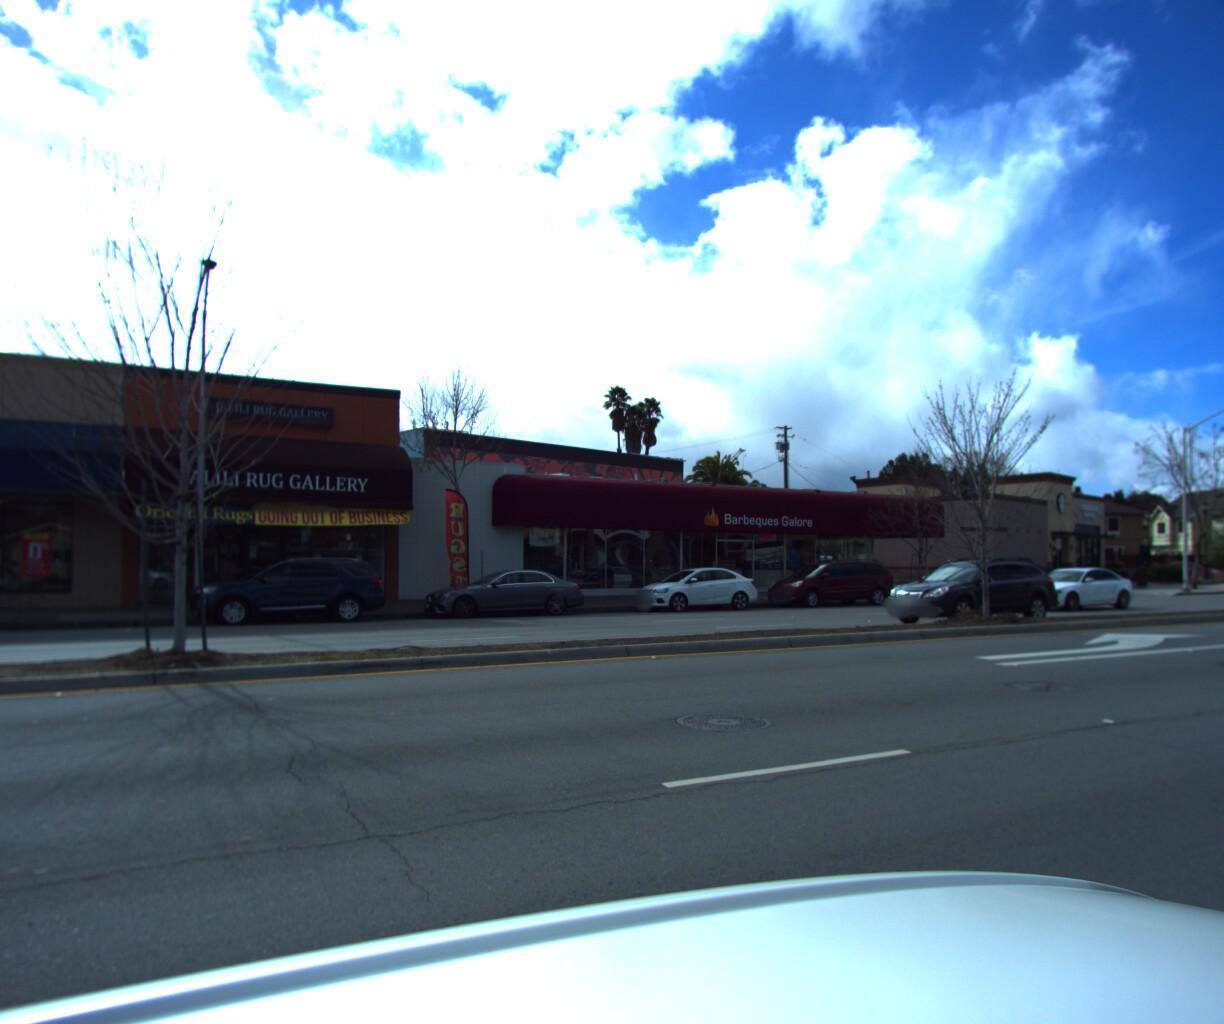car: (181, 561, 395, 635), (871, 560, 1065, 631), (417, 571, 590, 626), (757, 562, 897, 614), (625, 569, 764, 619), (1014, 569, 1145, 615)
